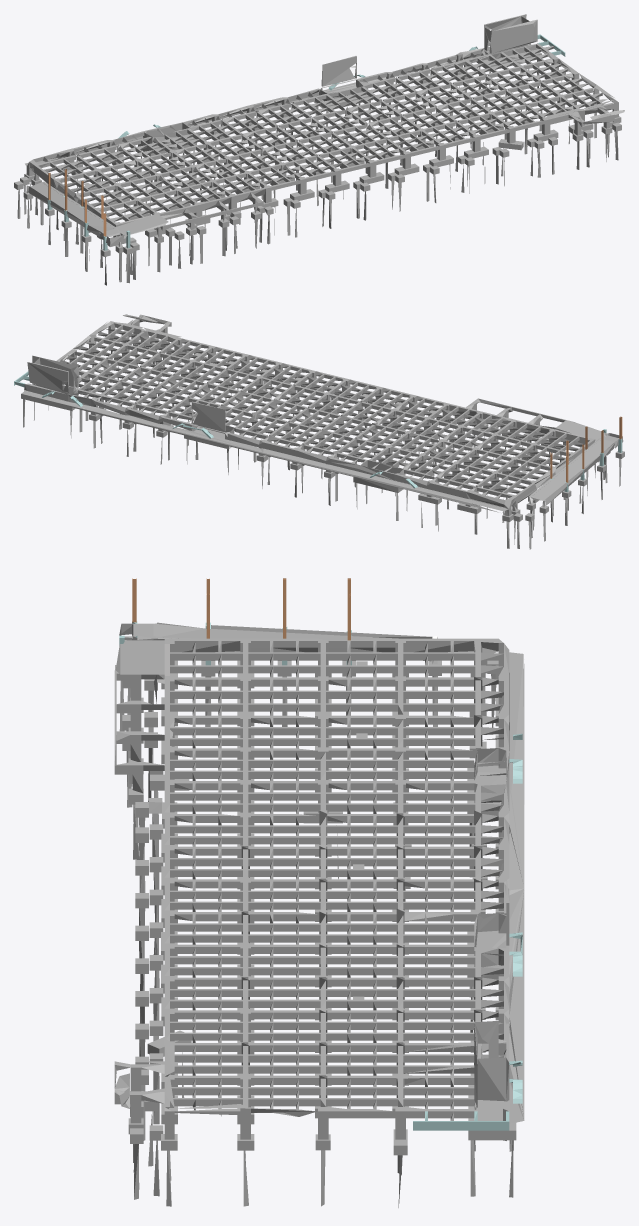
File: structure-0-apron.glb
The picture shows the model from 3 angles, top to bottom: view 1: azimuth 30°, elevation 25°; view 2: azimuth 150°, elevation 25°; view 3: azimuth 270°, elevation 25°; orthographic projection. The views are drawn at different scales.
Bounding box in the file's own units: 111 × 14.55 × 38.1.
